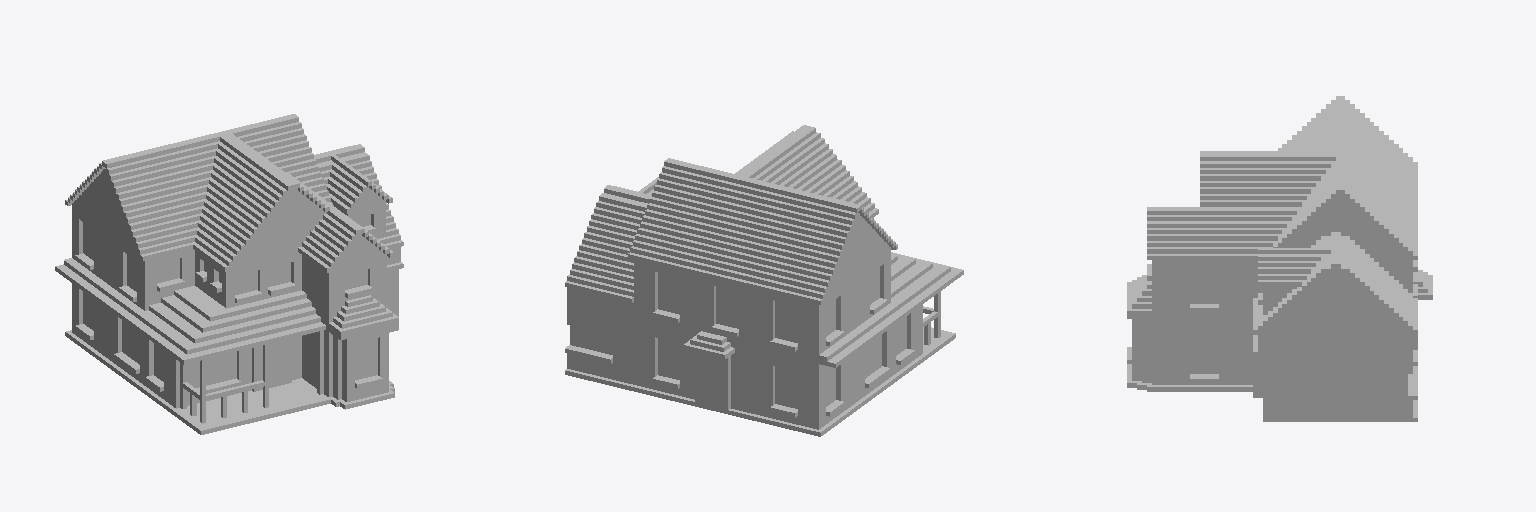
The model's file is yellowHouse.obj.
3 renders of one model, left to right at view 1: azimuth 30°, elevation 25°; view 2: azimuth 150°, elevation 25°; view 3: azimuth 270°, elevation 25°, orthographic.
Parts seen in each view (by area): view 1: object 1; view 2: object 1; view 3: object 1.
Part boxes in pixels (left/top/right/bottom): object 1: left=55, top=114, right=403, bottom=434; object 1: left=565, top=125, right=963, bottom=436; object 1: left=1127, top=96, right=1432, bottom=421.
Bounding box in the file's own units: 25.6 × 18.4 × 25.2.